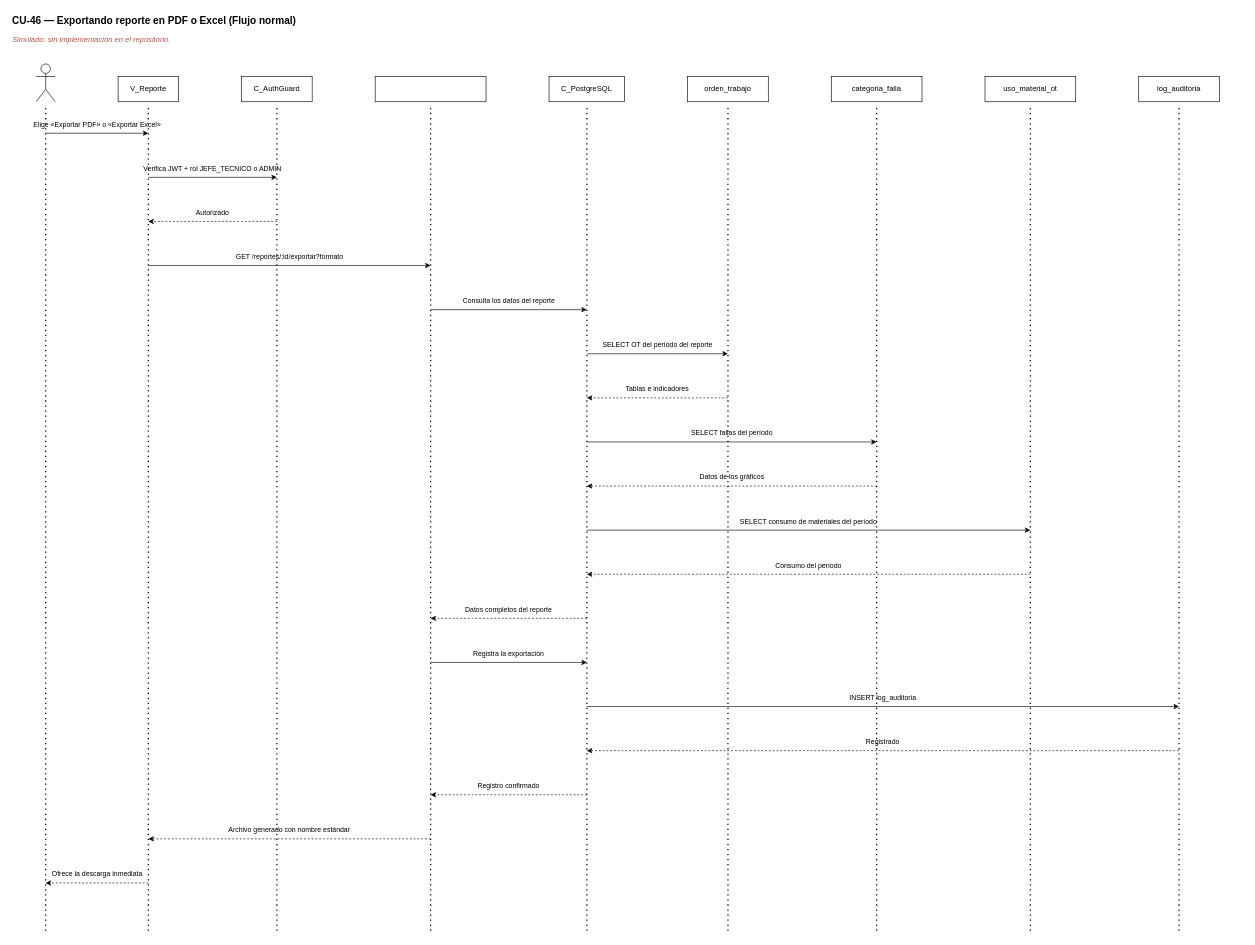
Image size: 1255x945. Some labels were removed from this diagram. Each missing label, with the centre of its shape:
"C_ReporteController" belongs at point (430, 89).
"Usuario" belongs at point (45, 82).
